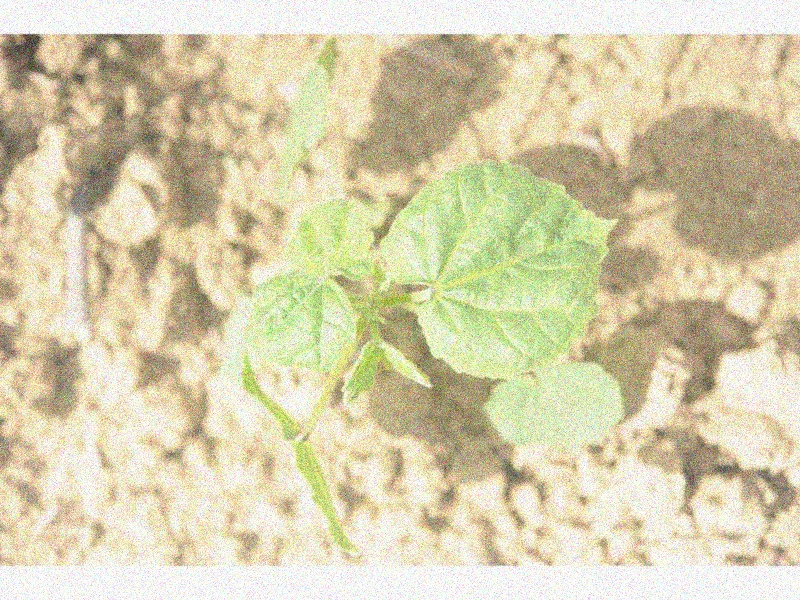velvet: (235, 36, 625, 556)
